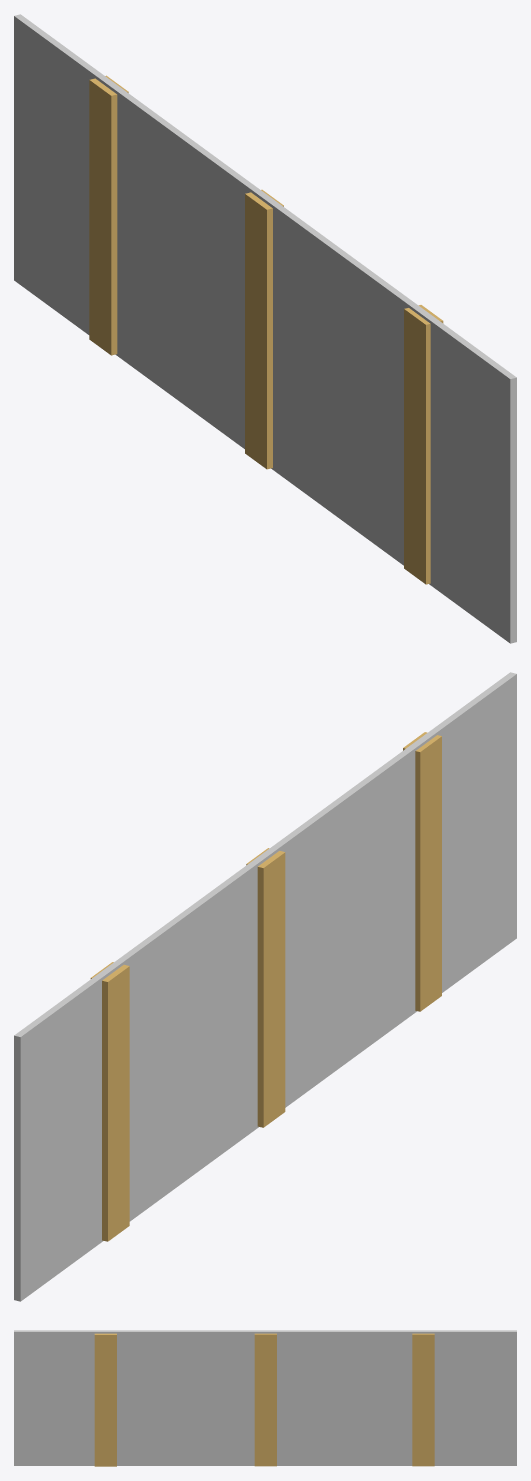
File: BigWALL.fbx
3 renders of one model, top to bottom at view 1: azimuth 30°, elevation 25°; view 2: azimuth 150°, elevation 25°; view 3: azimuth 270°, elevation 25°, orthographic. The views are drawn at different scales.
Parts seen in each view (by area): view 1: Cube, Cube.002, Cube.001, Cube.003; view 2: Cube, Cube.001, Cube.002, Cube.003; view 3: Cube, Cube.002, Cube.003, Cube.001.
Boxes of the visible parts, left/top/right/bottom form: Cube: left=14, top=14, right=516, bottom=643; Cube.002: left=89, top=75, right=128, bottom=355; Cube.001: left=245, top=189, right=283, bottom=469; Cube.003: left=404, top=305, right=443, bottom=584; Cube: left=14, top=672, right=516, bottom=1301; Cube.001: left=246, top=848, right=285, bottom=1127; Cube.002: left=90, top=962, right=129, bottom=1241; Cube.003: left=403, top=732, right=441, bottom=1011; Cube: left=14, top=1330, right=516, bottom=1465; Cube.002: left=412, top=1333, right=434, bottom=1466; Cube.003: left=94, top=1333, right=116, bottom=1466; Cube.001: left=254, top=1333, right=276, bottom=1466.
Bounding box in the file's own units: 1.37 × 18.82 × 64.04.
